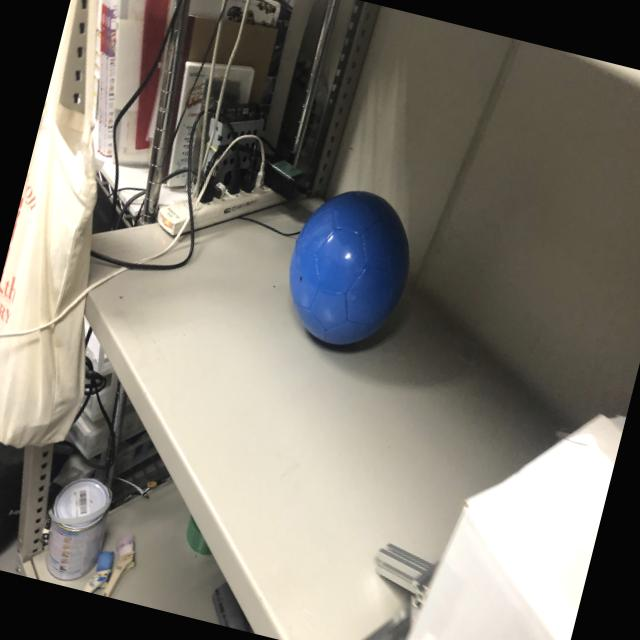blue_ball: (269, 174, 429, 368)
